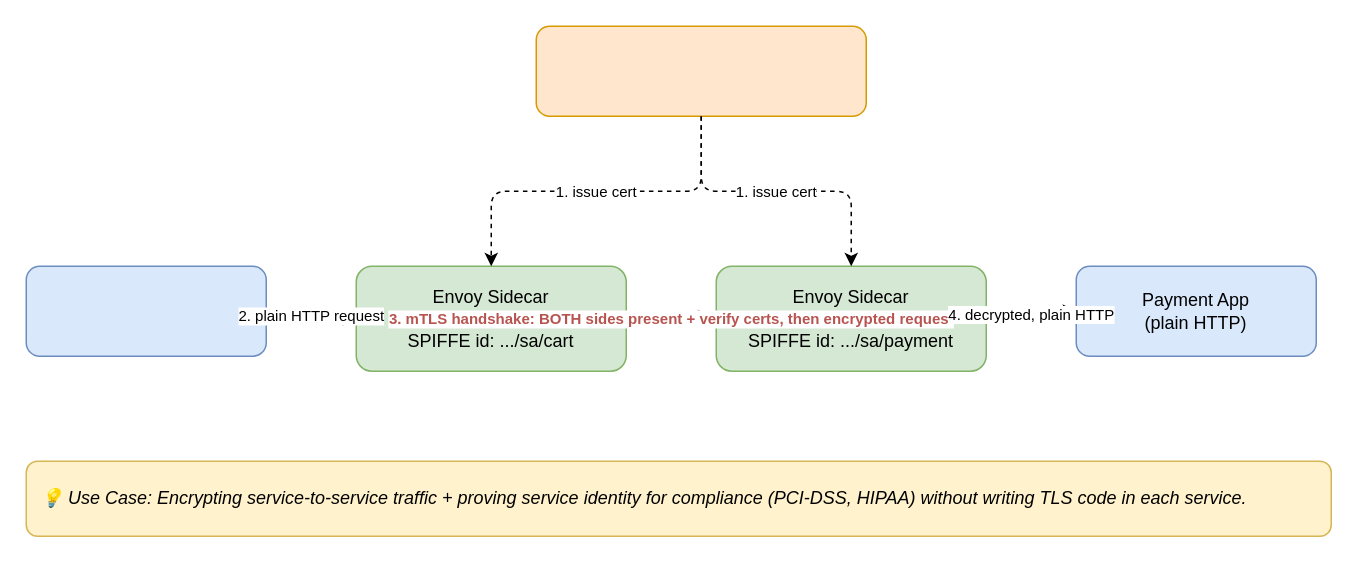
This 1358x563 diagram has some shape labels left out. The box of each missing label's shape, as (x1, y1, x2, y2) in pixels:
Cart App (plain HTTP): (25, 265, 266, 356)
Control Plane CA (issues short-lived certs): (535, 25, 866, 116)
